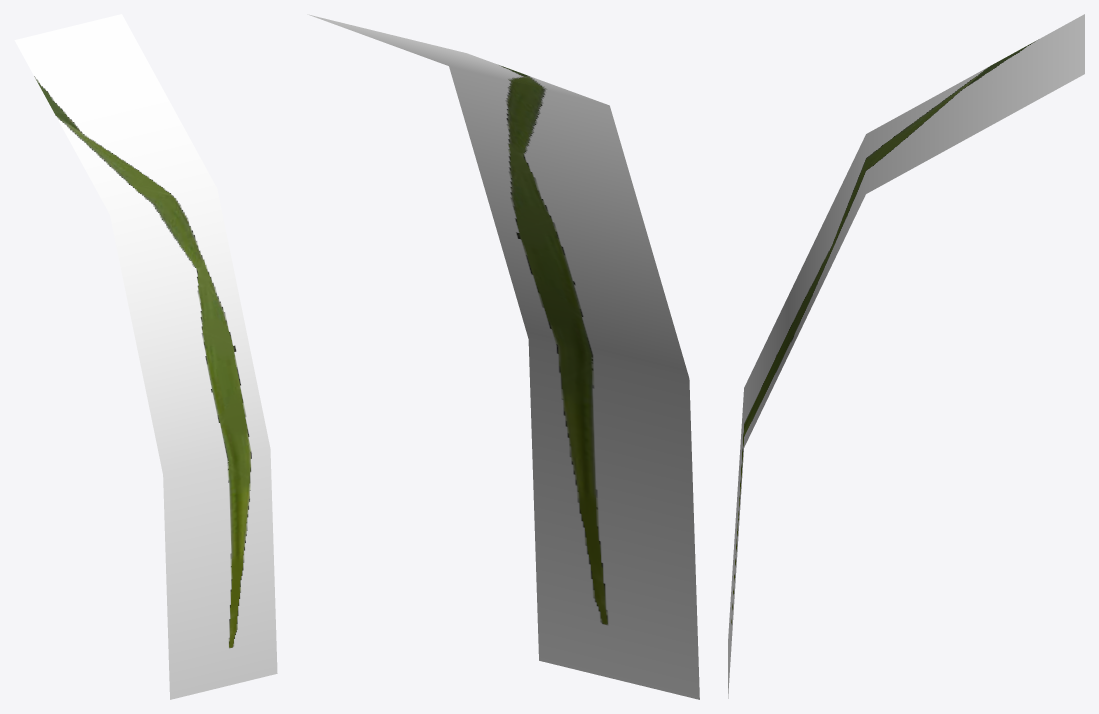
The model's file is brin_herbe03.fbx.
3 views of the same model, side by side, from view 1: azimuth 30°, elevation 25°; view 2: azimuth 150°, elevation 25°; view 3: azimuth 270°, elevation 25° (orthographic). The views are drawn at different scales.
Visible parts, largest first — view 1: pPlane31; view 2: pPlane31; view 3: pPlane31.
Boxes of the visible parts, bbox=[...] form: pPlane31: bbox=[14, 14, 277, 699]; pPlane31: bbox=[307, 14, 699, 699]; pPlane31: bbox=[728, 14, 1084, 698].
Bounding box in the file's own units: 0.0209 × 0.1015 × 0.0524.
Materials: 1 (1 with a texture image).
